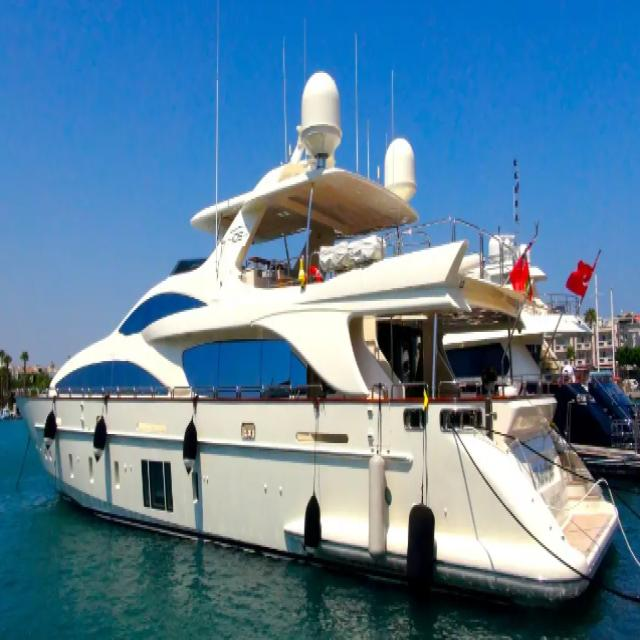houseboat: (17, 106, 615, 598)
